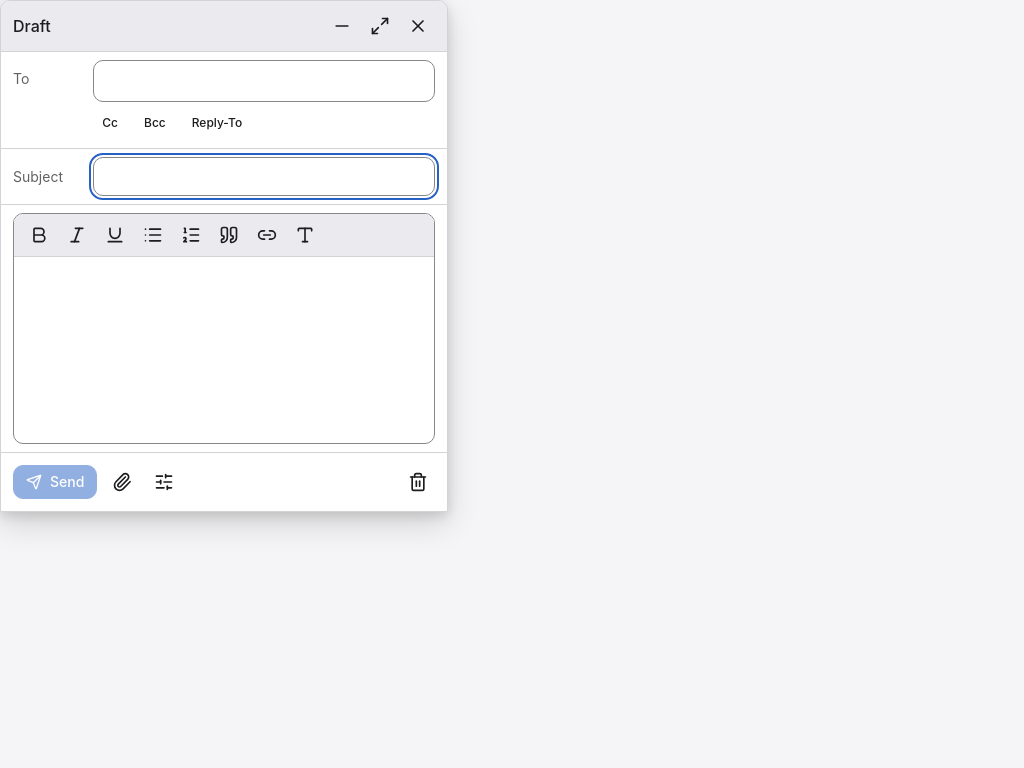
Test: ComposerWindow — send options (M-7, M-11) › keeps priority, receipt and TLS behind one control instead of on the surface
Expected: the field labelled "Priority" is not shown
What coordinates should you click on to do the following:
click the button named "Send options"
I would click on:
 (164, 482)
Its box is [147,465,181,499].
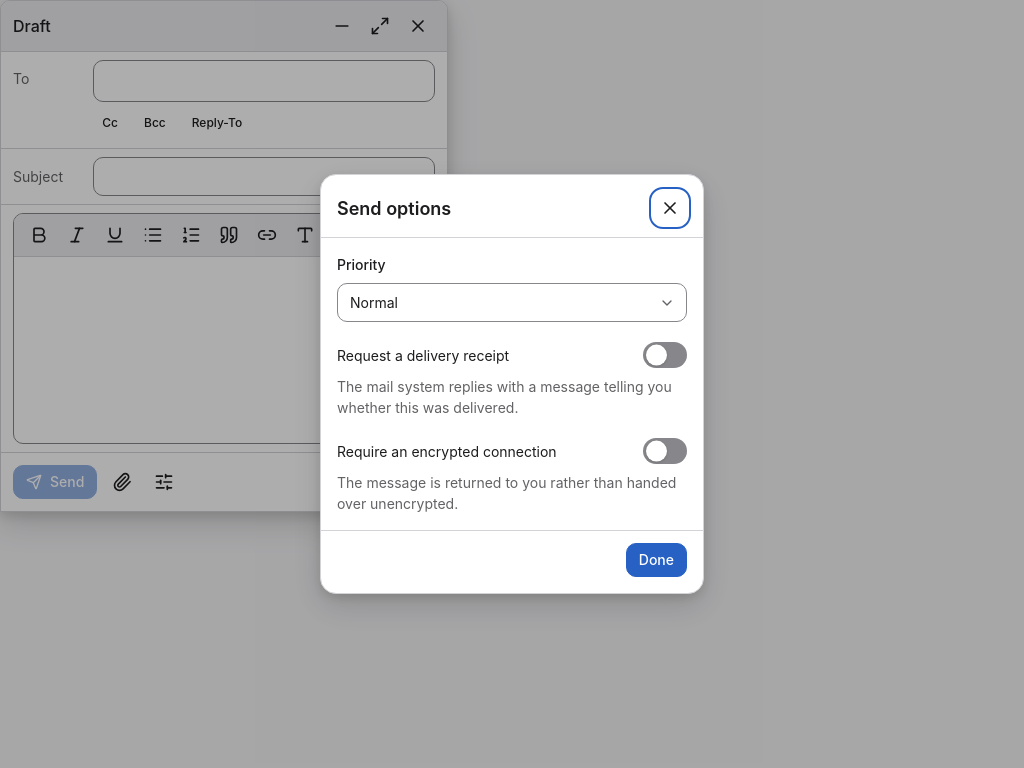
Result: the dropdown labelled "Priority" is shown at [337,283,687,322]
Result: the switch named "delivery receipt" next to "Request a delivery receipt" is shown at [643,338,687,372]
